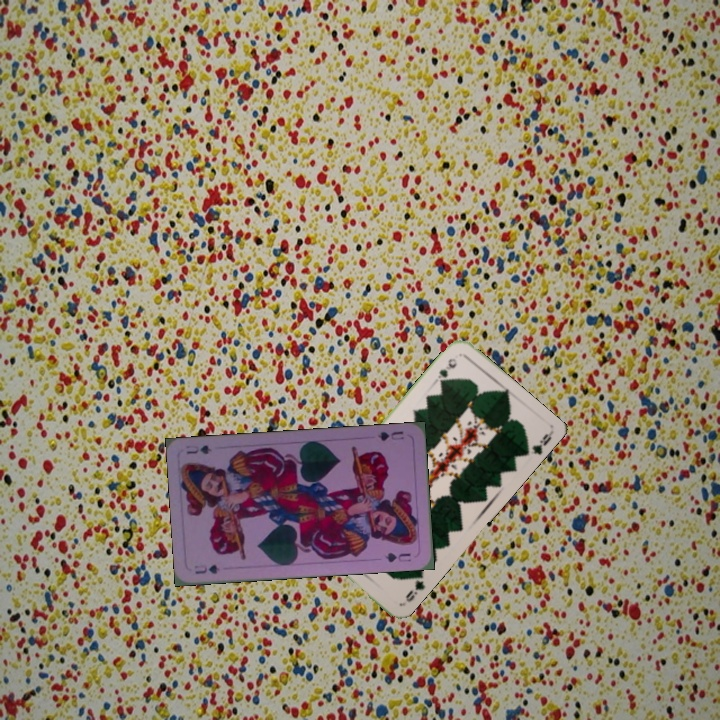G9: (401, 568, 428, 605), (430, 354, 460, 387)
GU: (373, 427, 406, 444), (190, 561, 222, 576)
